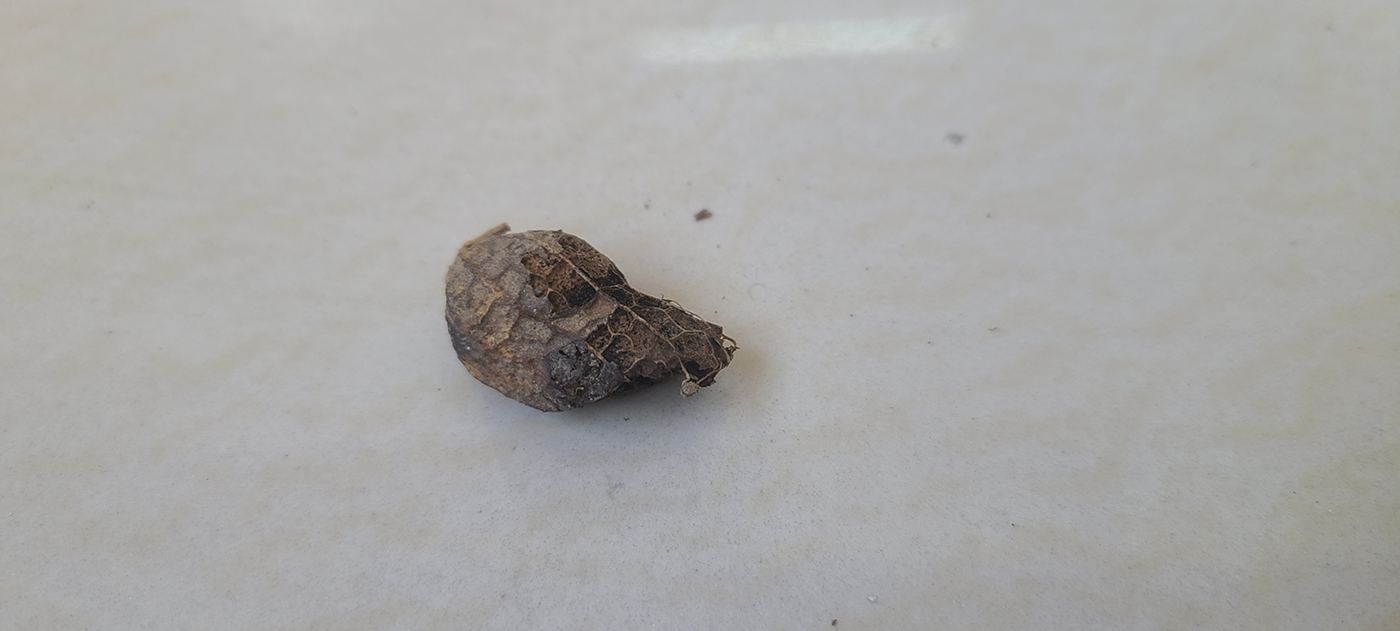l: (443, 222, 736, 412)
